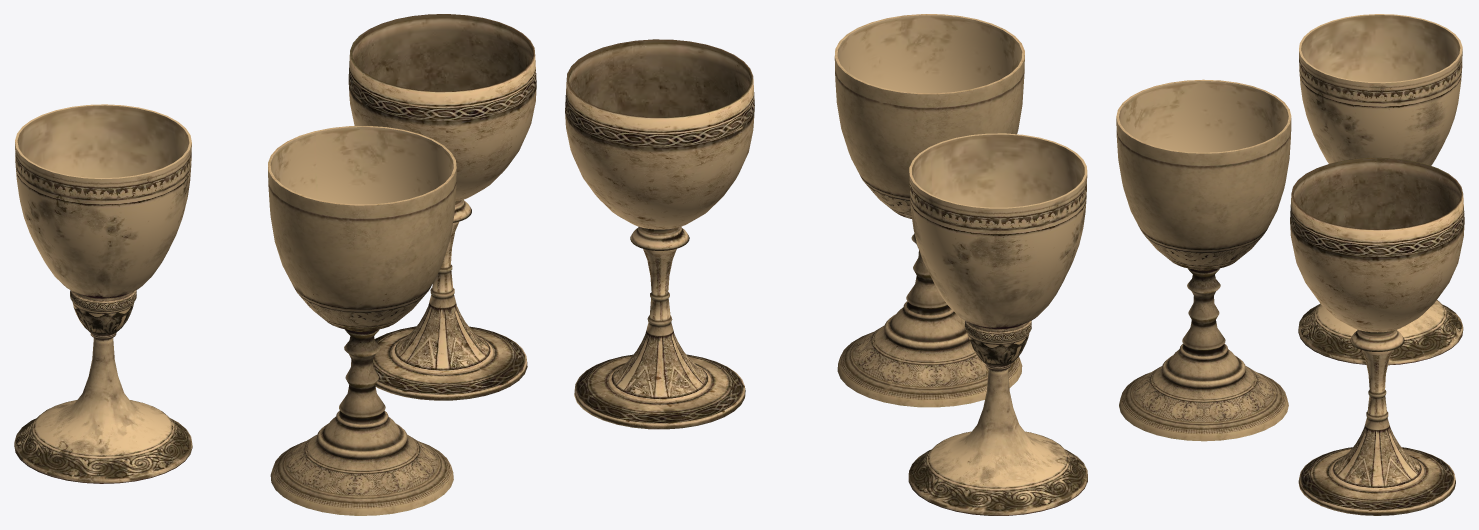
The model's file is brass_goblets.glb.
3 renders of one model, left to right at view 1: azimuth 30°, elevation 25°; view 2: azimuth 150°, elevation 25°; view 3: azimuth 270°, elevation 25°, orthographic. The views are drawn at different scales.
Parts seen in each view (by area): view 1: brass_goblet_01, brass_goblet_02, brass_goblet_03; view 2: brass_goblet_02, brass_goblet_03, brass_goblet_01; view 3: brass_goblet_01, brass_goblet_03, brass_goblet_02.
Part boxes in pixels (left/top/right/bottom): brass_goblet_01: left=268, top=126, right=456, bottom=515; brass_goblet_02: left=14, top=104, right=192, bottom=483; brass_goblet_03: left=348, top=14, right=536, bottom=400; brass_goblet_02: left=908, top=133, right=1087, bottom=515; brass_goblet_03: left=565, top=39, right=754, bottom=429; brass_goblet_01: left=834, top=14, right=1024, bottom=407; brass_goblet_01: left=1116, top=79, right=1291, bottom=441; brass_goblet_03: left=1290, top=157, right=1464, bottom=515; brass_goblet_02: left=1298, top=14, right=1463, bottom=365.
Bounding box in the file's own units: 0.4534 × 0.2734 × 0.2976.
3 materials, 3 textured.
